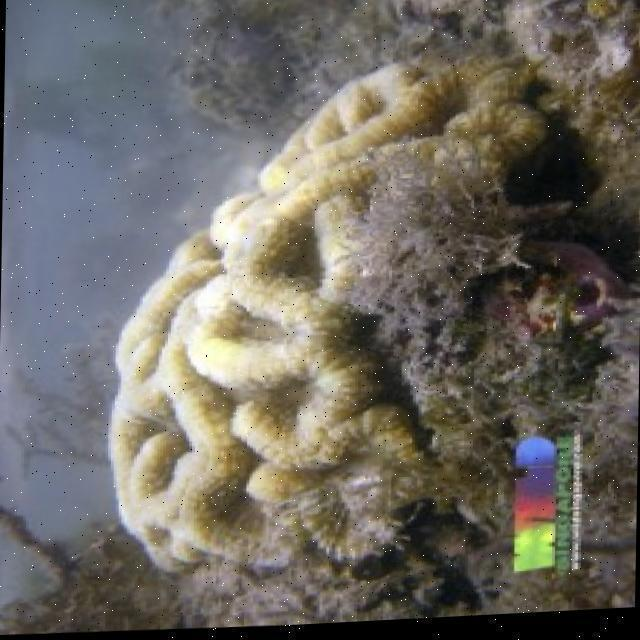Bleached Coral: (90, 43, 535, 563)
